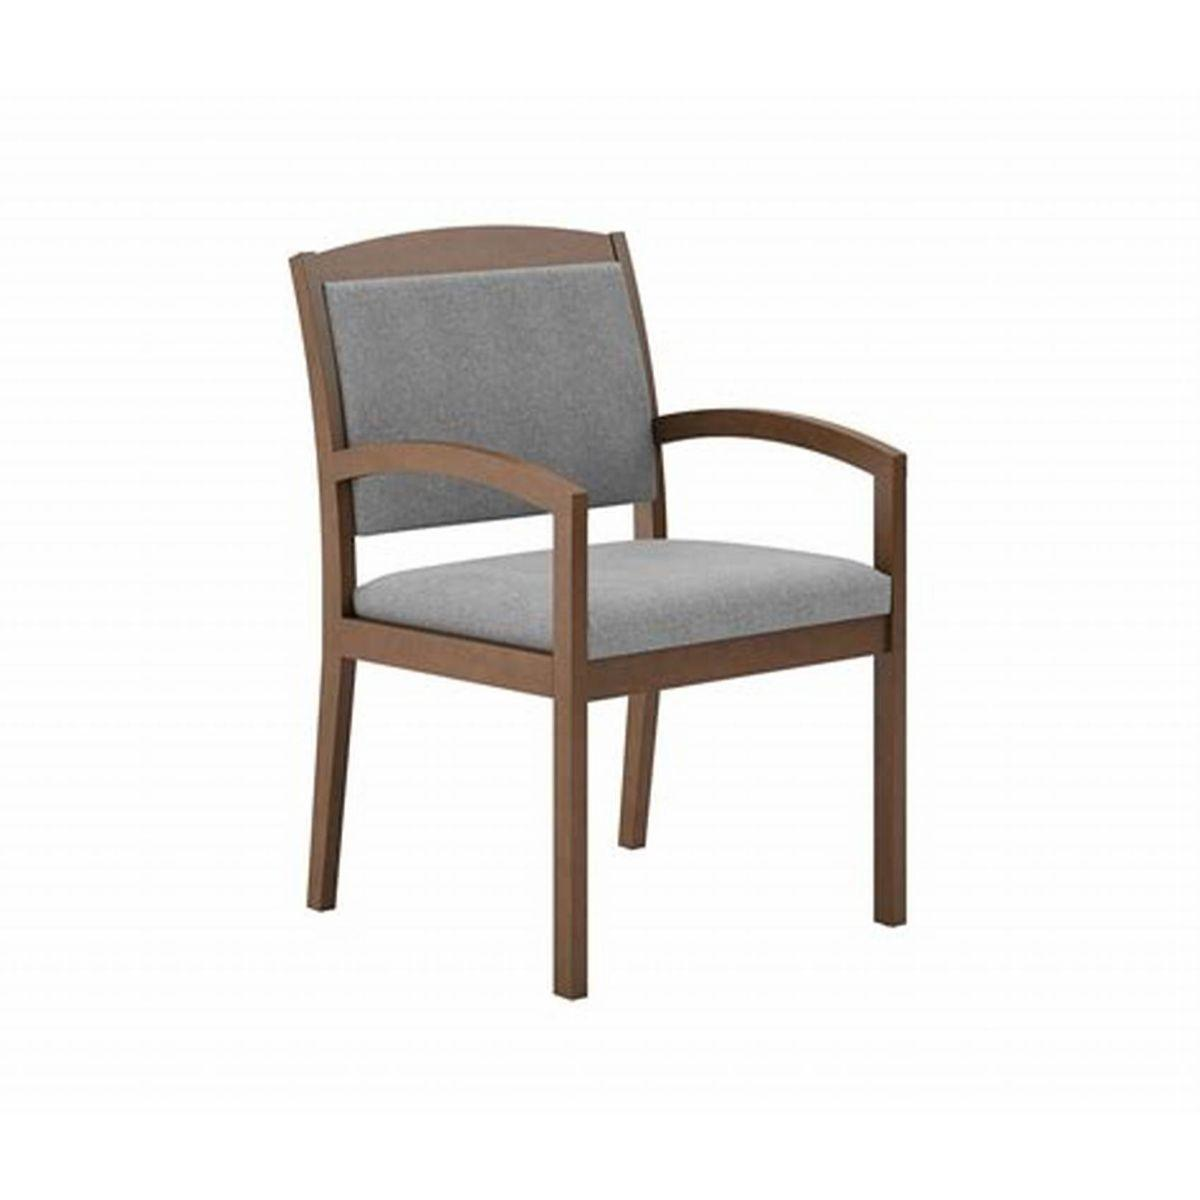Chair: (281, 222, 914, 1001)
